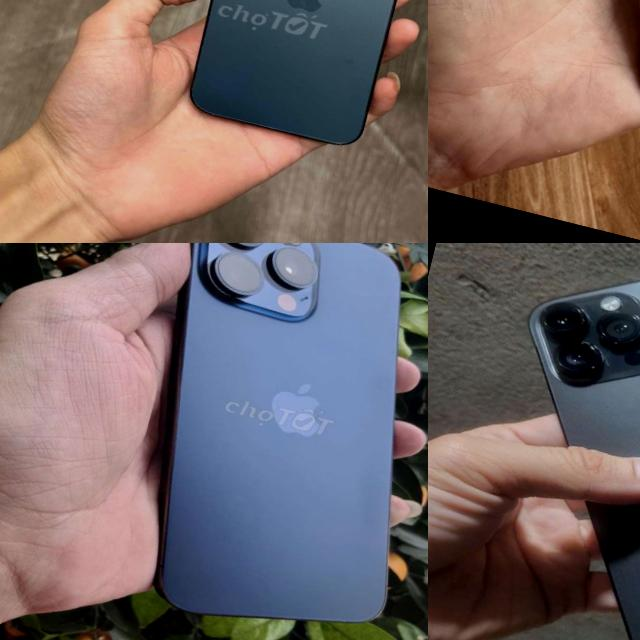gen_11: (533, 0, 640, 185)
gen_12_13: (164, 0, 428, 165)
gen_14: (442, 243, 640, 640)
gen_15: (75, 243, 428, 640)
